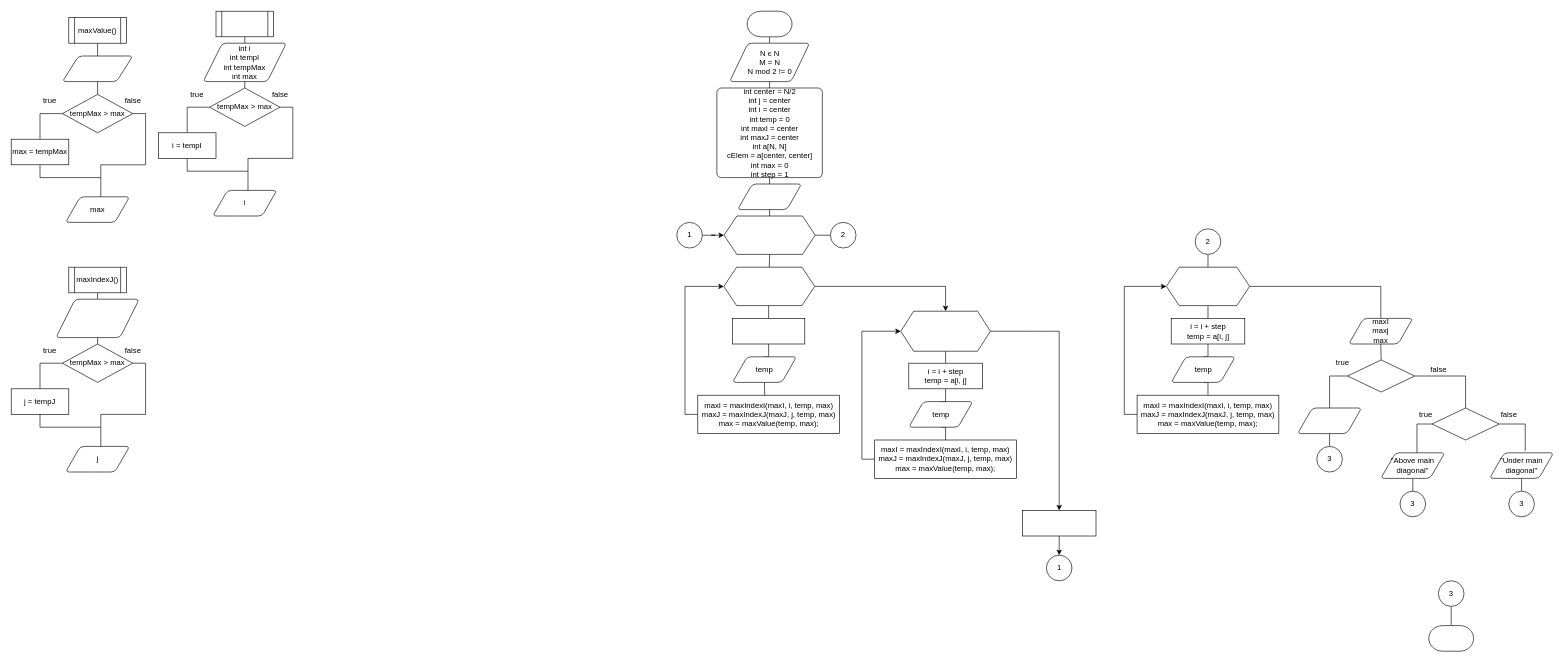
Image size: 1565x662. Some labels were removed from this diagram. Each missing label, with the centre of its shape:
"On main diagonal": (1329,420)
cElem: (769,196)
end: (1451,638)
h = 0; h<k; h++: (769,286)
h = 0; h<n-1; h++: (1208,286)
int j int tempJ int tempMax int max: (97,318)
int tempMax int max: (97,68)
j = j + step temp = a[i, j]: (768,331)
k = 0; k<n; k++: (769,234)
maxI < maxJ: (1465,423)
maxI = maxJ: (1381,375)
maxIndexI(): (244,24)
start: (769,24)
step = -step: (1059,523)
v = 0; v<k; v++: (945,331)
